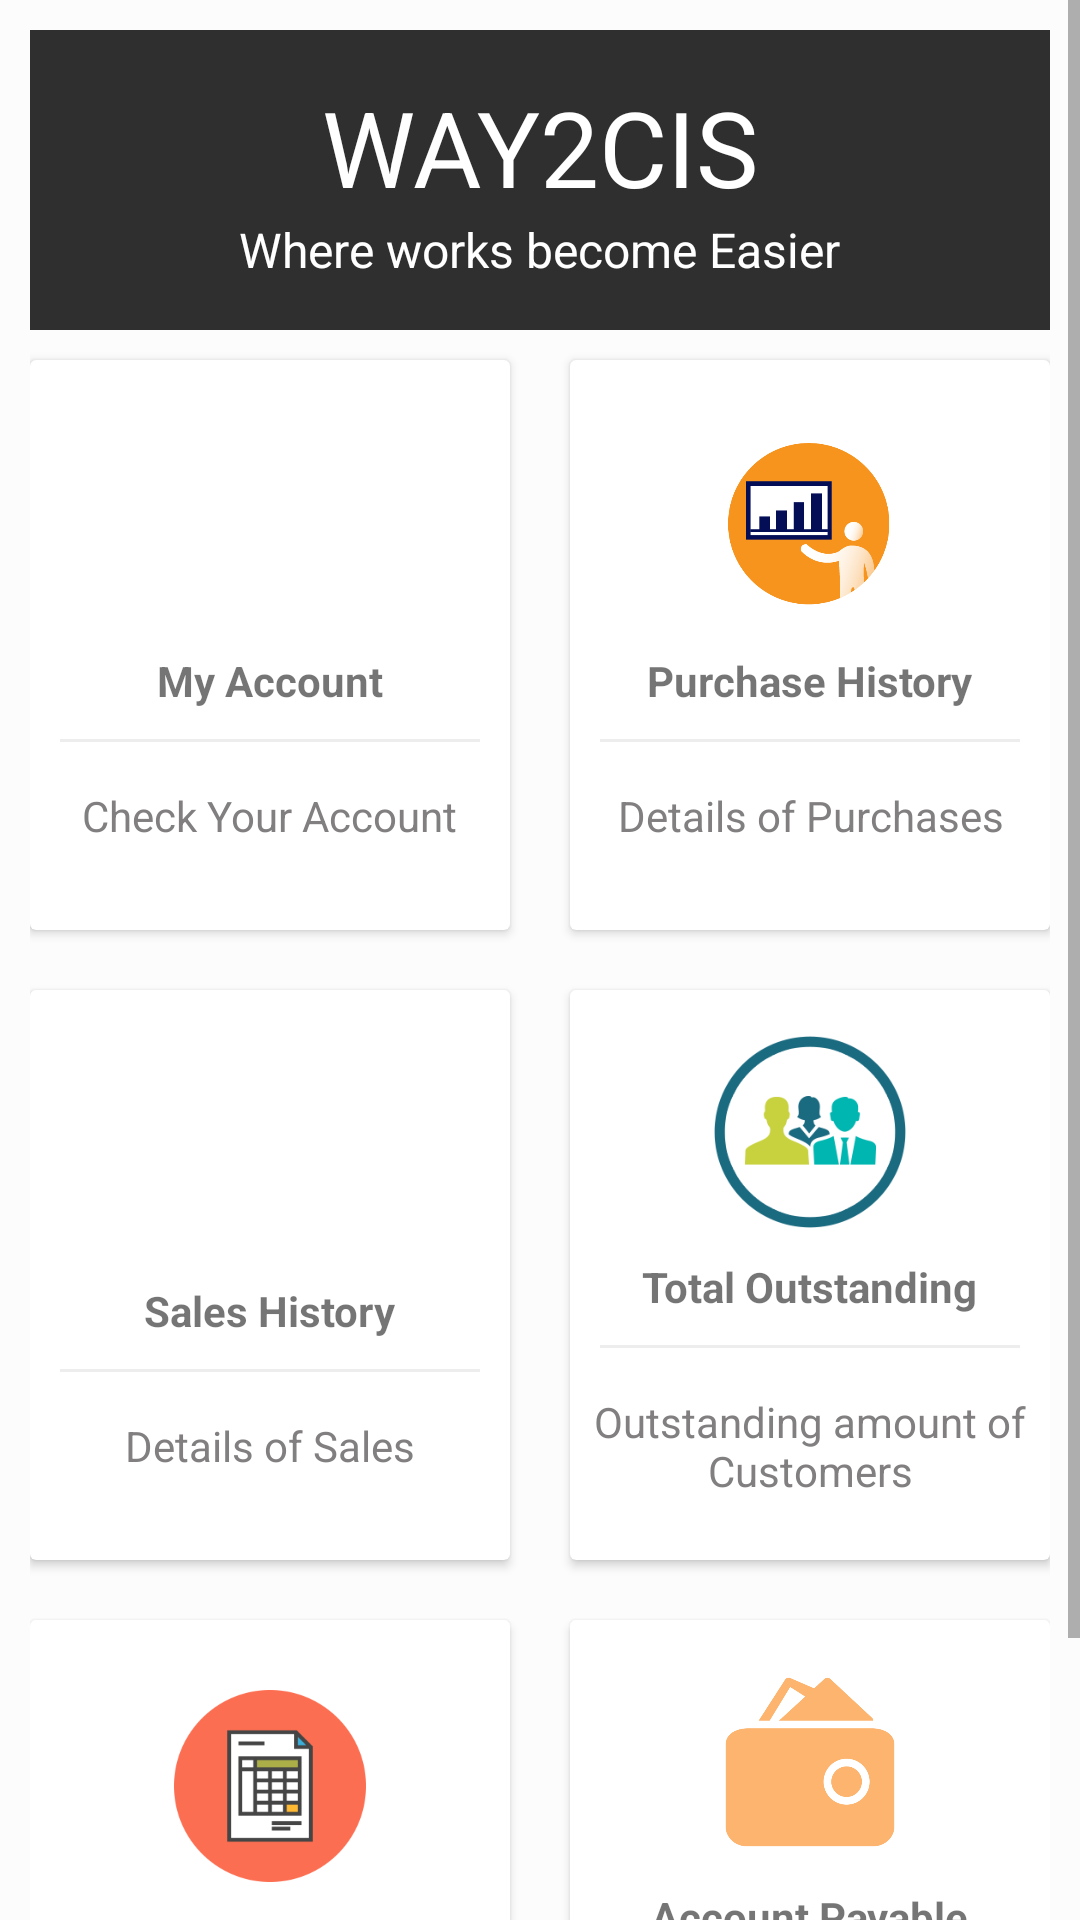

Named icons in this screenshot (1080×1920) and their centers, [x,y]:
customer outstanding: [810,1132]
invoice: [270,1786]
payment: [810,1762]
